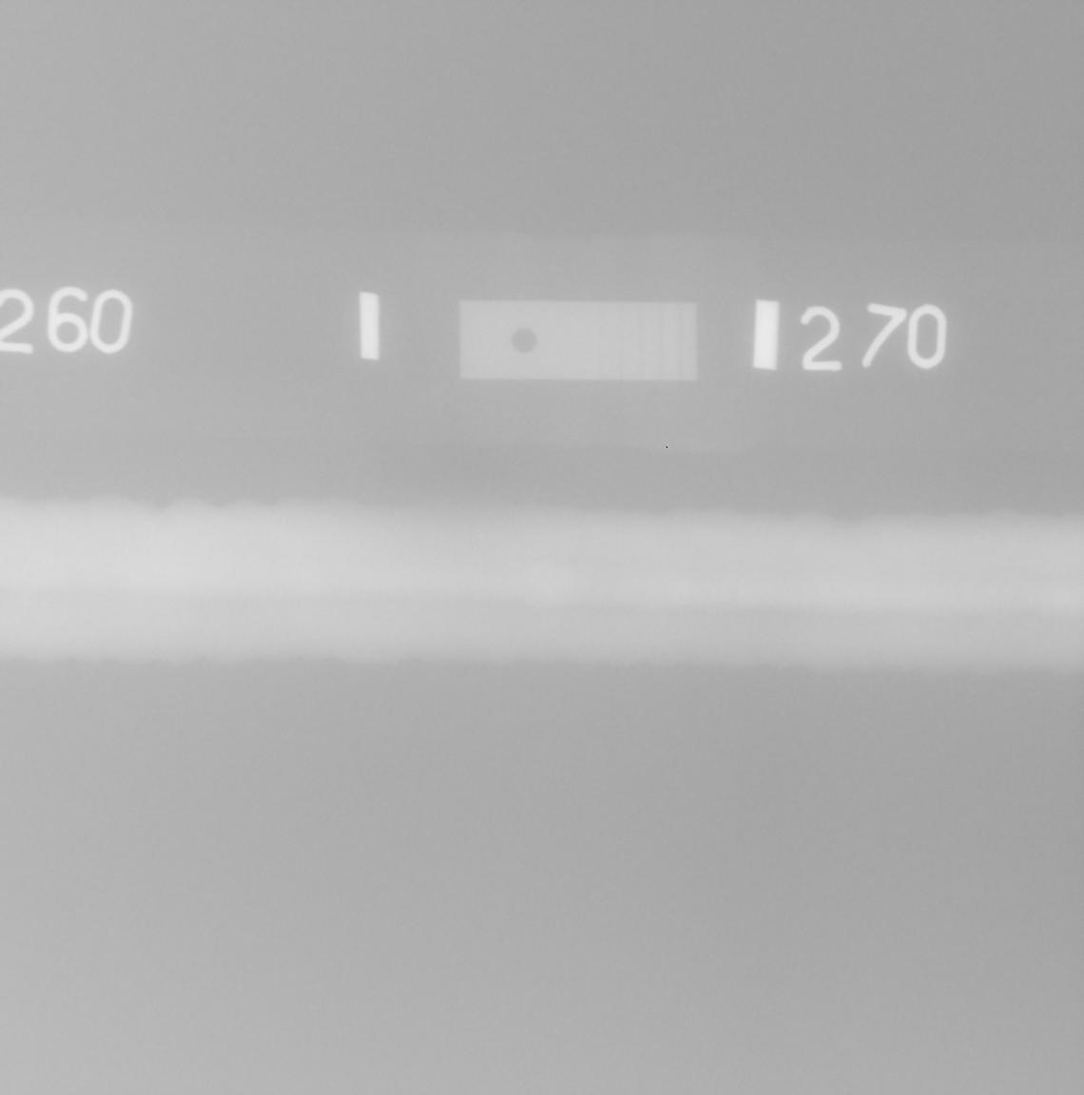Reference Standard 1: (459, 300, 697, 381)
